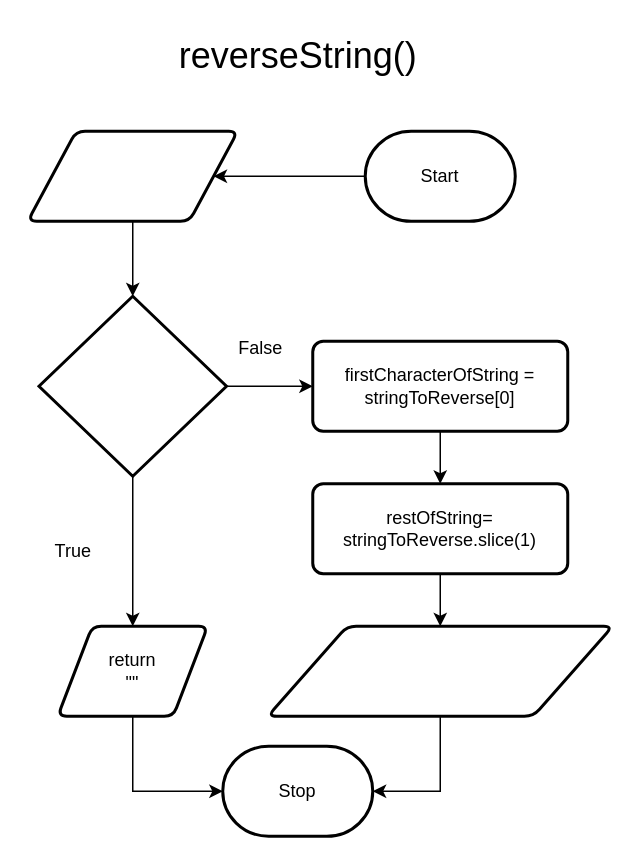
The diagram is 639 pixels wide and 863 high, and some of its shapes have lost their labels. The box of each missing label's shape, as (x1, y1, x2, y2) in pixels:
Get stringToReverse: (26, 129, 238, 222)
if stringToReverse === "": (37, 294, 227, 477)
return reverseString(restOfString) + firstCharacterOfString: (266, 624, 614, 717)
